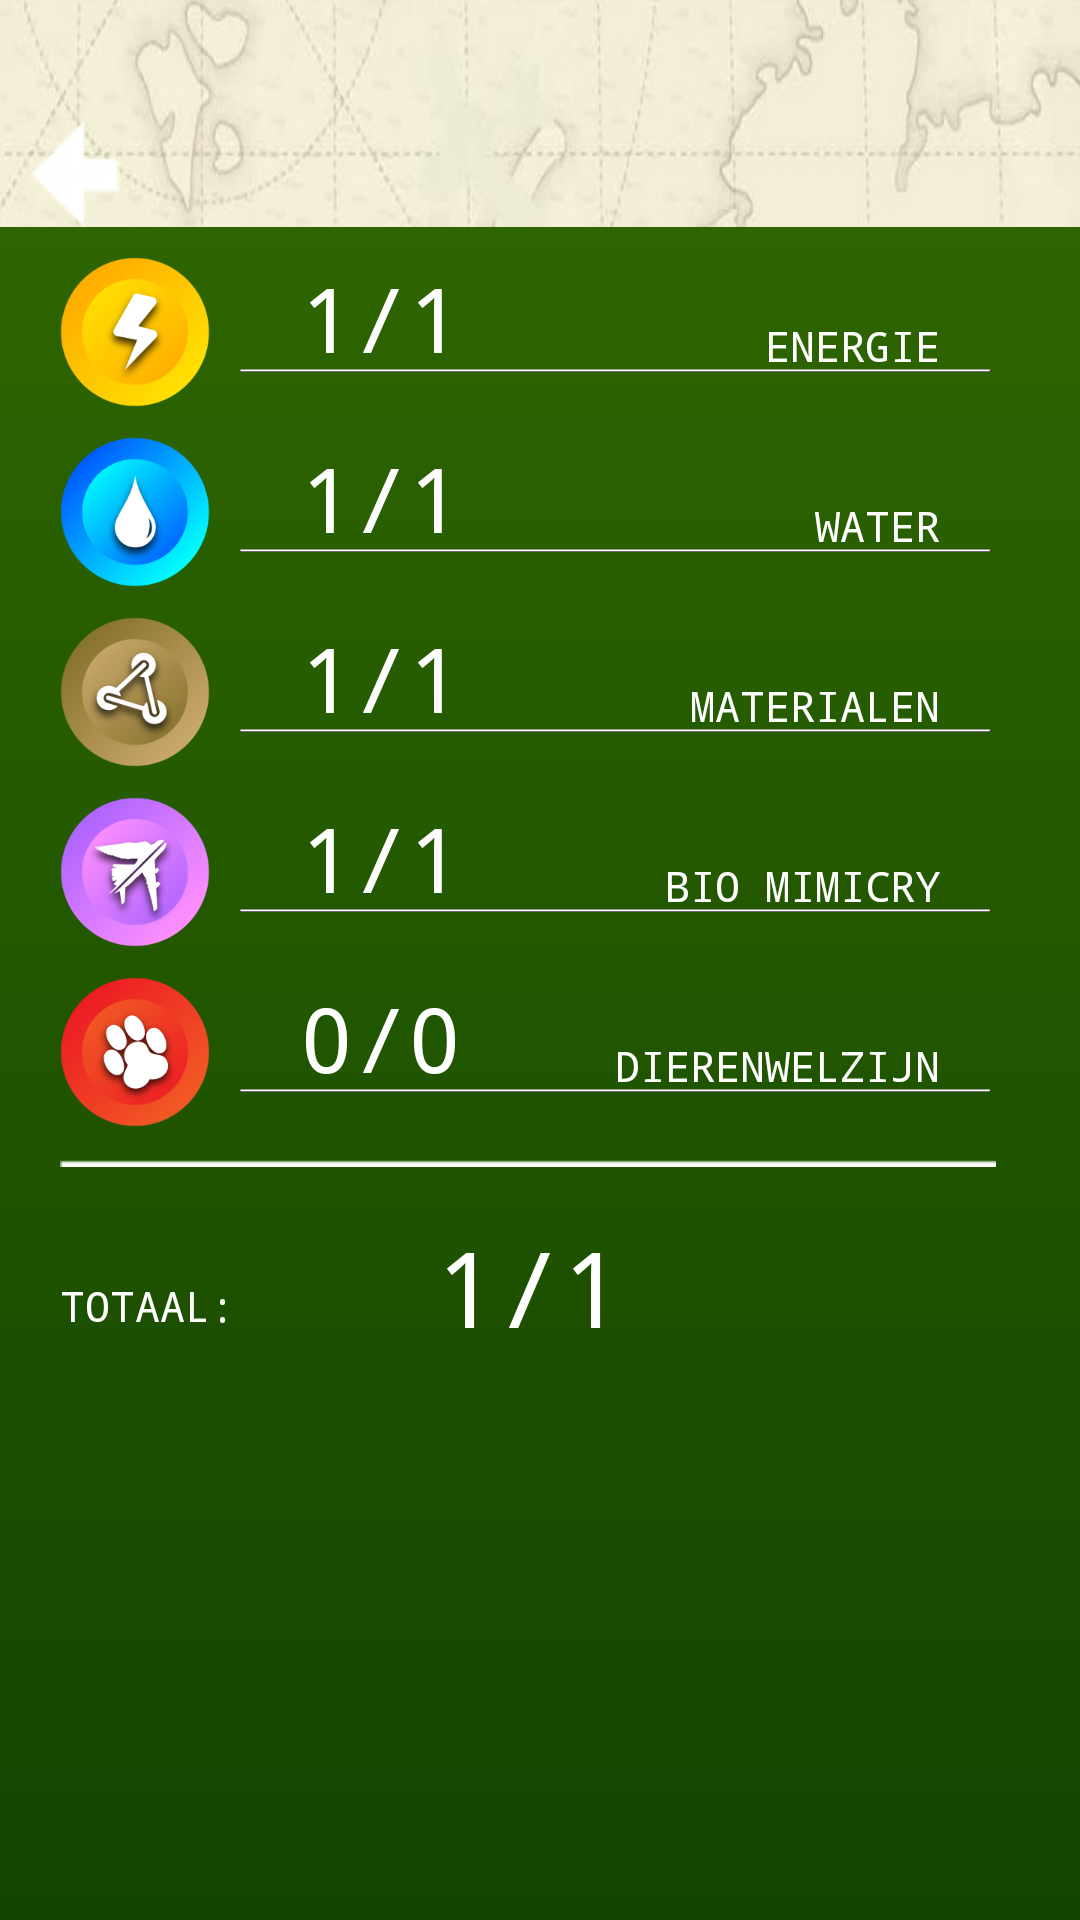

Icon click points for this 1080x1920 phone screenshot, format [x,y]:
backbtn: [75,174]
